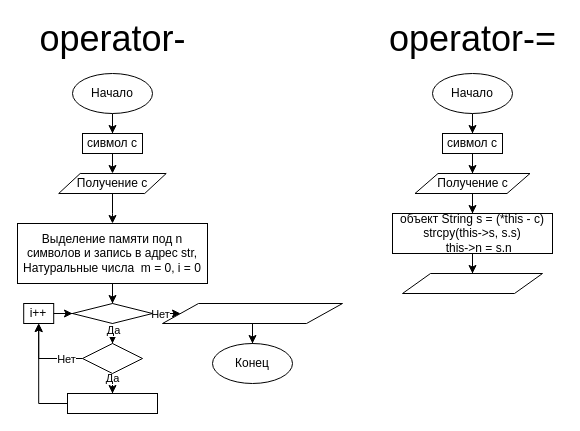
This 580x431 diagram has some shape labels left out. The centre of each missing label's shape, as x and y in pixels:
"i < n" goes at (x=112, y=313).
"s[i] != c" goes at (x=112, y=358).
"str[m++] = s[i]" goes at (x=112, y=403).
"Возвращение *this" goes at (x=472, y=283).
"Возвращение String(str)" goes at (x=252, y=313).
